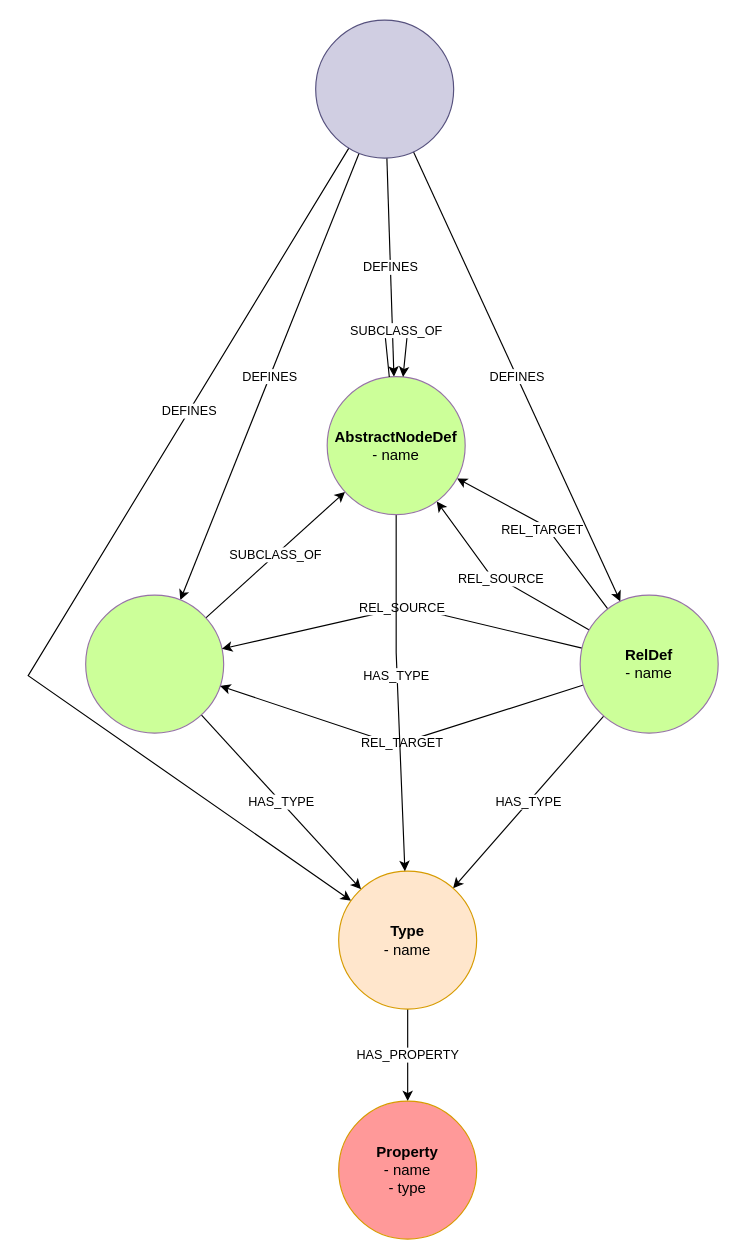
This 738x1259 diagram has some shape labels left out. Here are the shapes that lost their labels. From the top down, the centre of each, then its label:
point 384,88: Metagraph - name
point 154,663: NodeDef - name
